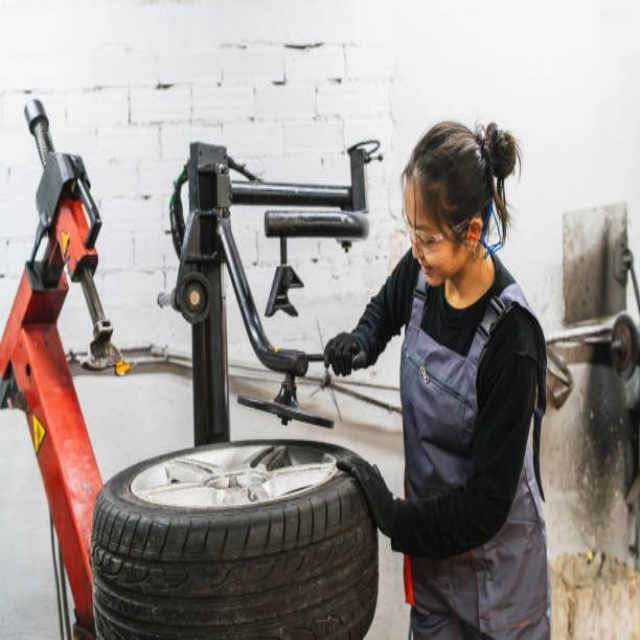Gafas: (404, 203, 471, 258)
Guantes: (334, 455, 395, 535), (323, 331, 366, 377)
Sin_mascara: (416, 254, 444, 289)
